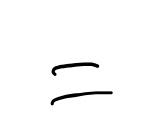eqv: (51, 62, 113, 105)
